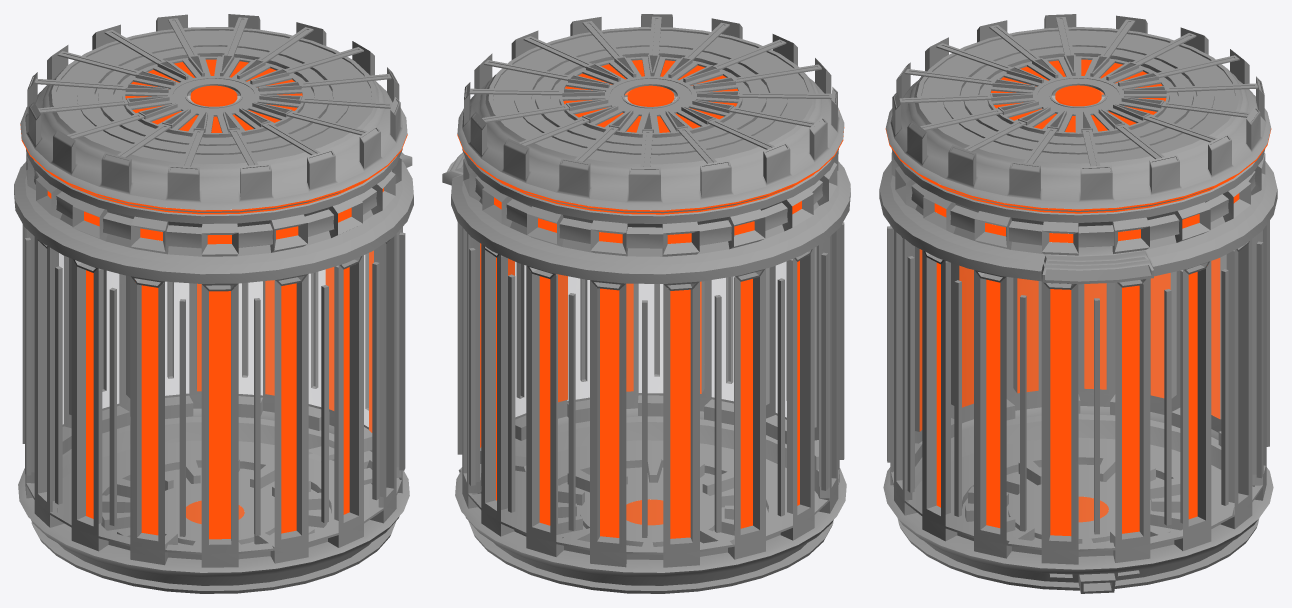
File: fuel-cell.glb
3 views of the same model, side by side, from view 1: azimuth 30°, elevation 25°; view 2: azimuth 150°, elevation 25°; view 3: azimuth 270°, elevation 25° (orthographic).
Parts seen in each view (by area): view 1: Object_6, Object_5, Object_4, Object_7; view 2: Object_6, Object_5, Object_4, Object_7; view 3: Object_6, Object_5, Object_4, Object_7.
Part boxes in pixels (x1,y1,x2,y2): Object_6: (14, 14, 413, 593); Object_5: (26, 91, 402, 551); Object_4: (20, 59, 407, 539); Object_7: (37, 56, 390, 291); Object_6: (442, 14, 850, 593); Object_5: (468, 91, 839, 552); Object_4: (457, 60, 844, 538); Object_7: (483, 56, 812, 290); Object_6: (879, 14, 1277, 593); Object_5: (890, 91, 1262, 549); Object_4: (885, 59, 1271, 536); Object_7: (901, 56, 1249, 289).
Bounding box in the file's own units: 0.6556 × 0.7487 × 0.6373.
